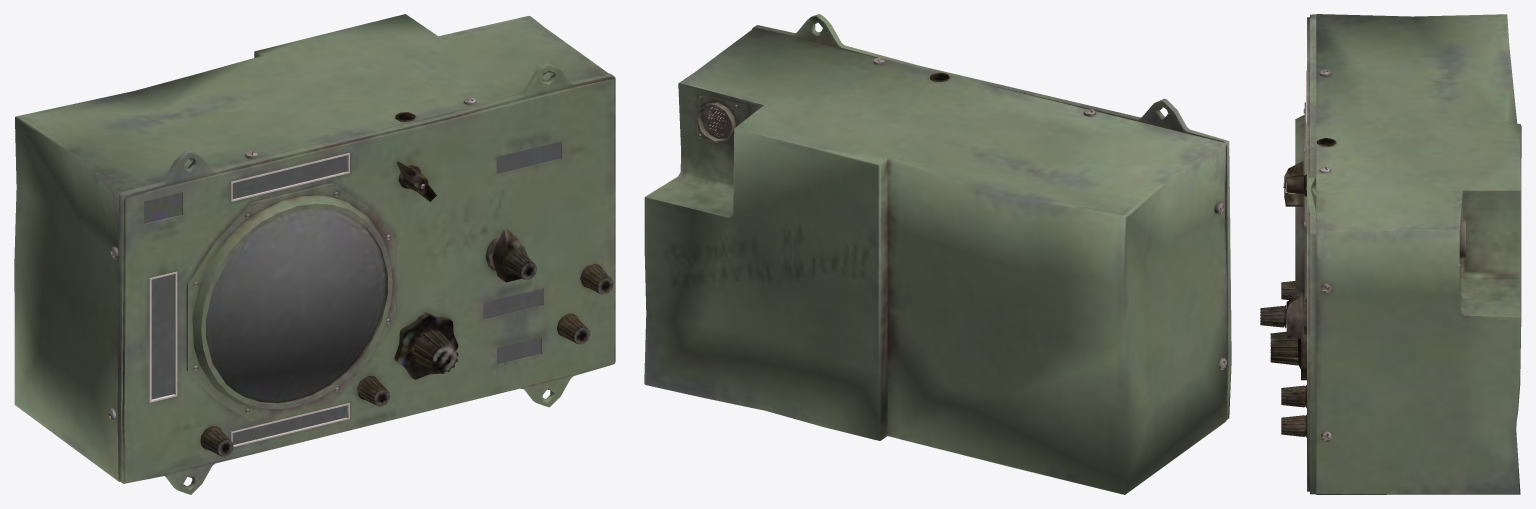
The model's file is vintage_spacecraft_instrument.glb.
3 views of the same model, side by side, from view 1: azimuth 30°, elevation 25°; view 2: azimuth 150°, elevation 25°; view 3: azimuth 270°, elevation 25° (orthographic). The views are drawn at different scales.
Parts seen in each view (by area): view 1: vintage_spacecraft_instrument; view 2: vintage_spacecraft_instrument; view 3: vintage_spacecraft_instrument.
Boxes of the visible parts, box(x1,y1,x2,y2) form: vintage_spacecraft_instrument: box(14, 14, 615, 494); vintage_spacecraft_instrument: box(644, 14, 1231, 494); vintage_spacecraft_instrument: box(1260, 14, 1521, 494).
Size of the model in its own units: 0.4103 by 0.2693 by 0.2044.
Materials: 2 (2 with a texture image).
